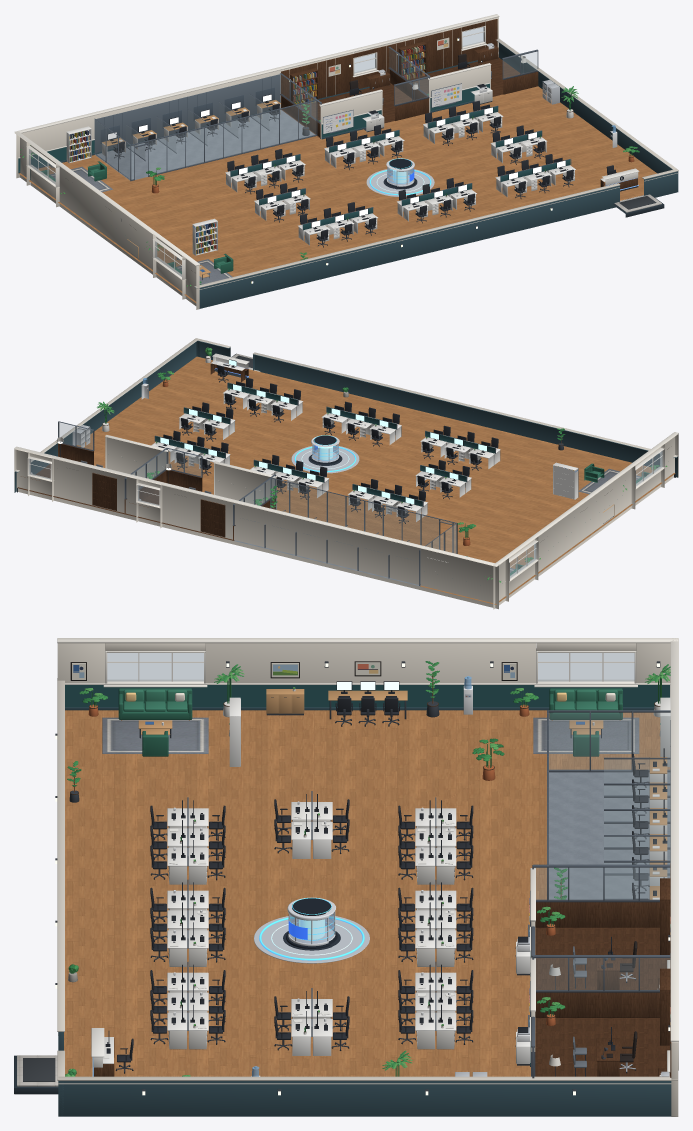
Rendered from office-large.glb.
3 renders of one model, top to bottom at view 1: azimuth 30°, elevation 25°; view 2: azimuth 150°, elevation 25°; view 3: azimuth 270°, elevation 25°, orthographic. The views are drawn at different scales.
Parts seen in each view (by area): view 1: office_static, office_glass, office_emissive; view 2: office_static, office_glass, office_emissive; view 3: office_static, office_glass, office_emissive.
Part boxes in pixels (x1,y1,x2,y2): office_static: (14,14,678,309); office_glass: (29,27,537,276); office_emissive: (88,38,638,283); office_static: (14,338,678,609); office_glass: (29,423,662,583); office_emissive: (57,366,356,471); office_static: (14,638,678,1116); office_glass: (107,653,670,990); office_emissive: (55,663,670,1095).
Bounding box in the file's own units: 32.34 × 2.87 × 22.54.
76 materials, 6 textured.
